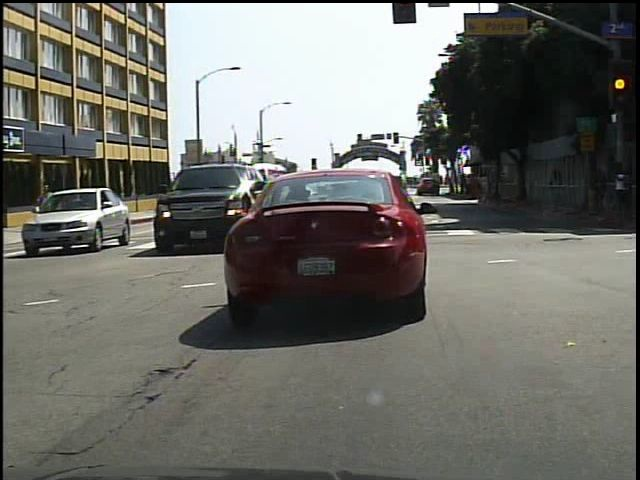person: (43, 182, 54, 212)
